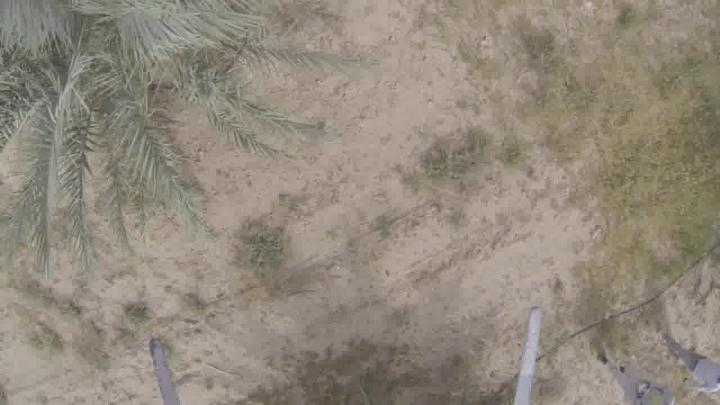Date-Palm-Crown: (0, 0, 202, 132)
